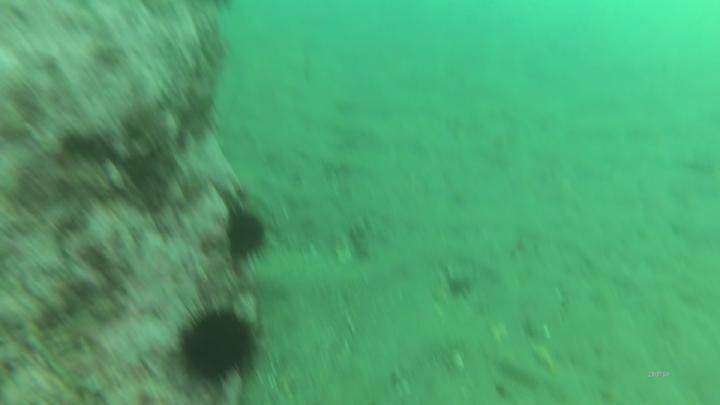echinus: (171, 298, 263, 393), (220, 203, 272, 268)
